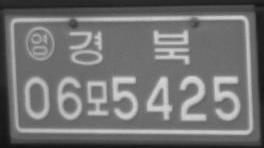0: (23, 75, 50, 121)
2: (179, 74, 208, 122)
4: (146, 75, 173, 121)
5: (212, 74, 242, 121), (111, 75, 138, 121)
6: (56, 75, 83, 121)
경남_D: (68, 28, 191, 66)
모: (86, 79, 110, 116)
영: (24, 25, 56, 61)
